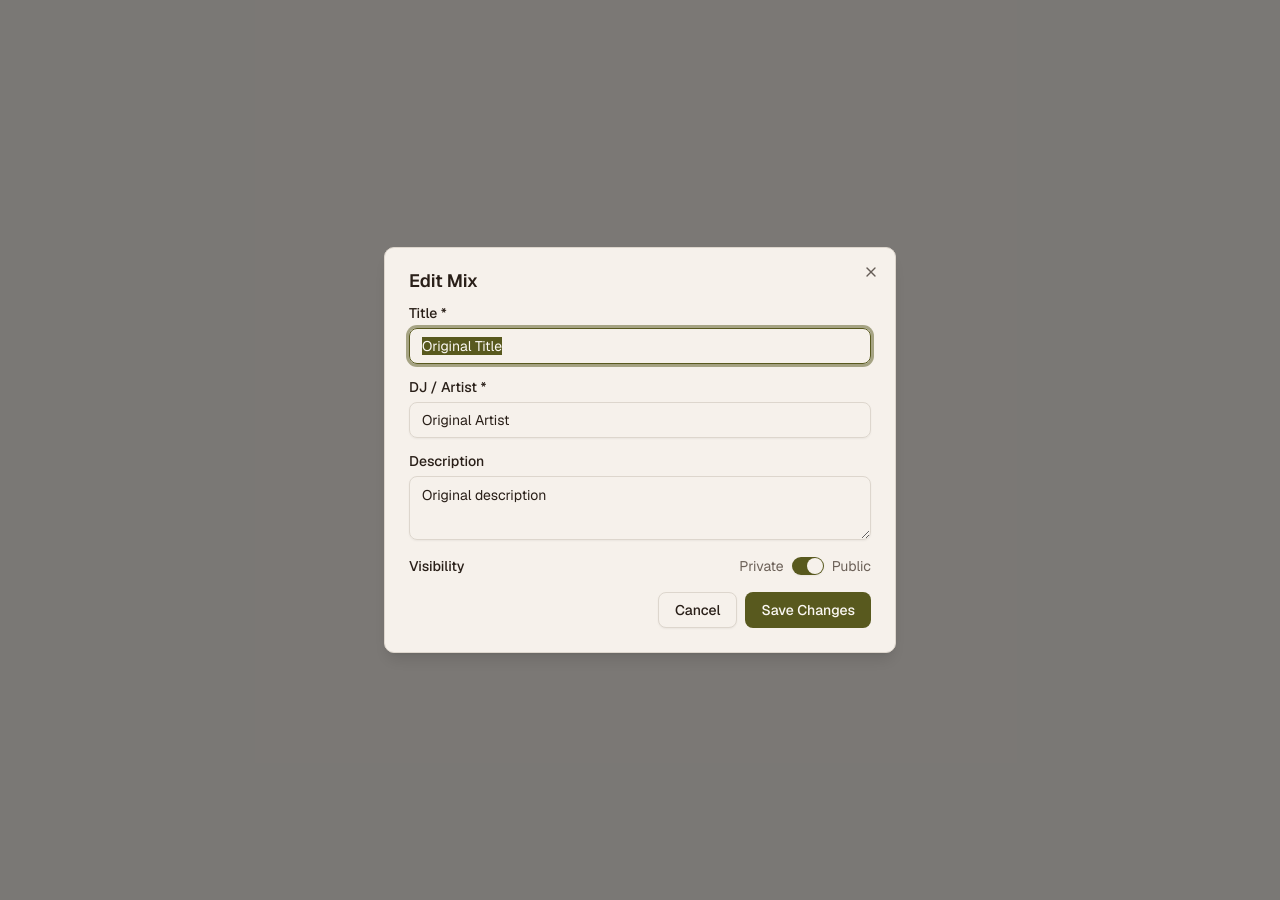
EditMixDialog › should disable save button while saving
What coordinates should you click on to do the following:
click the button "Save Changes"
I would click on:
 (808, 610)
Its box is [745, 592, 871, 628].
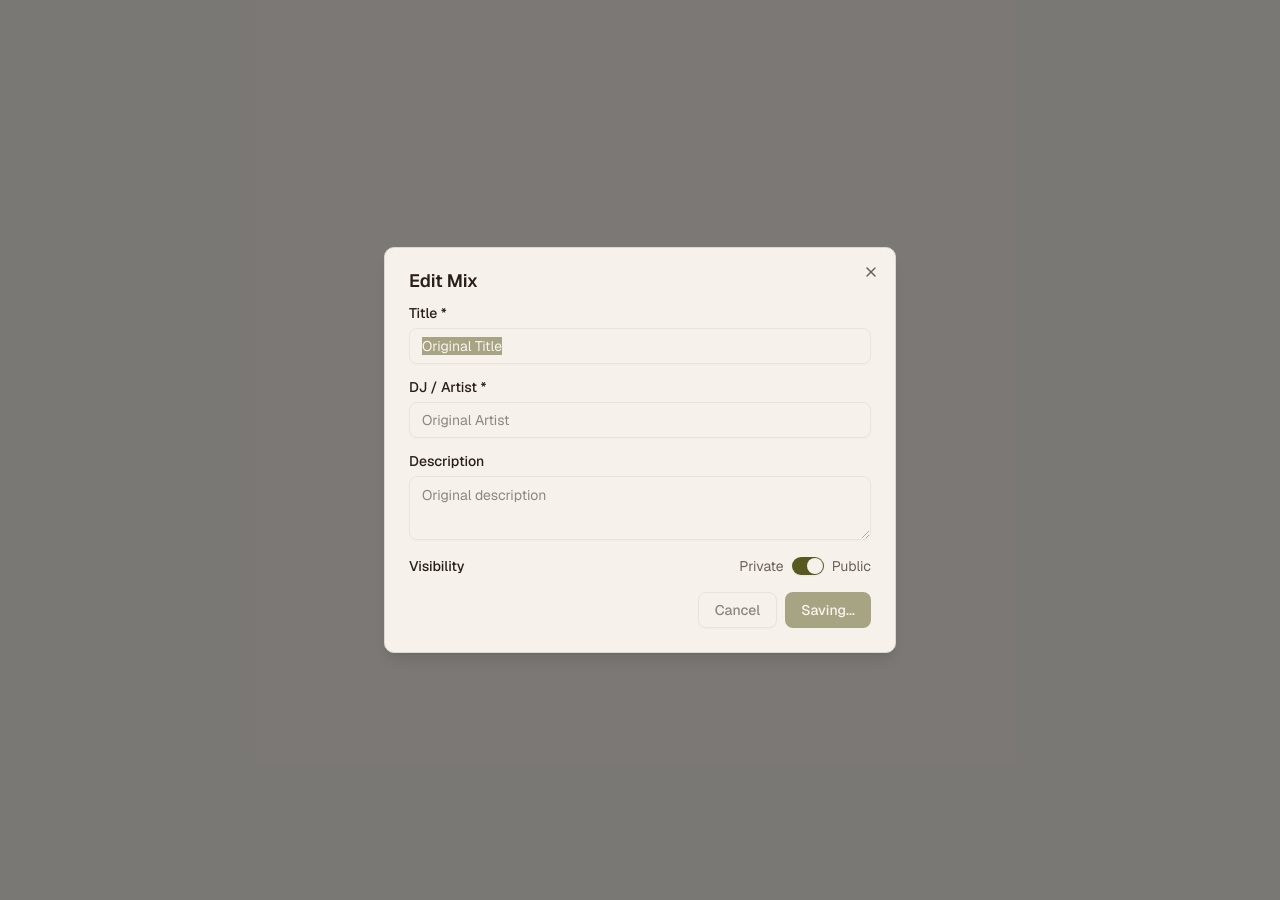
Expected: the button named "save" is disabled, [785, 592, 871, 628]
